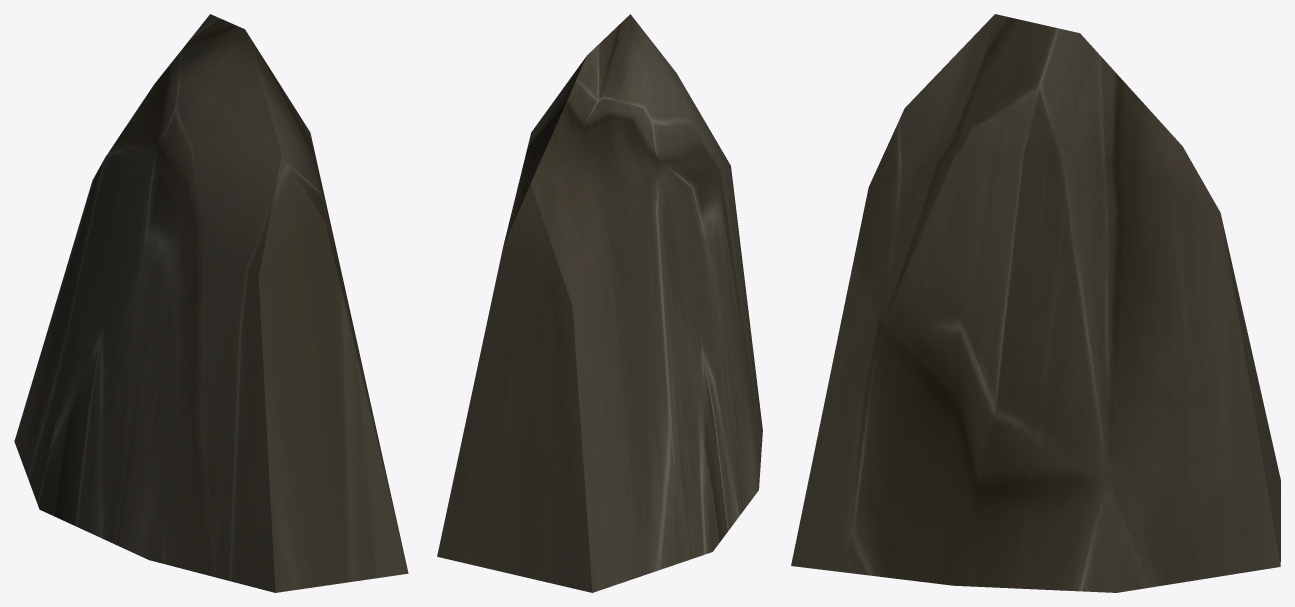
Rendered from A_CV_GEN_Rock_02.fbx.
3 renders of one model, left to right at view 1: azimuth 30°, elevation 25°; view 2: azimuth 150°, elevation 25°; view 3: azimuth 270°, elevation 25°, orthographic. The views are drawn at different scales.
Parts seen in each view (by area): view 1: A_CV_GEN_Rock_02; view 2: A_CV_GEN_Rock_02; view 3: A_CV_GEN_Rock_02.
Boxes of the visible parts, left/top/right/bottom form: A_CV_GEN_Rock_02: left=14, top=14, right=408, bottom=592; A_CV_GEN_Rock_02: left=437, top=14, right=762, bottom=592; A_CV_GEN_Rock_02: left=791, top=14, right=1280, bottom=592.
Size of the model in its own units: 182 by 322 by 276.
1 material, 1 textured.
